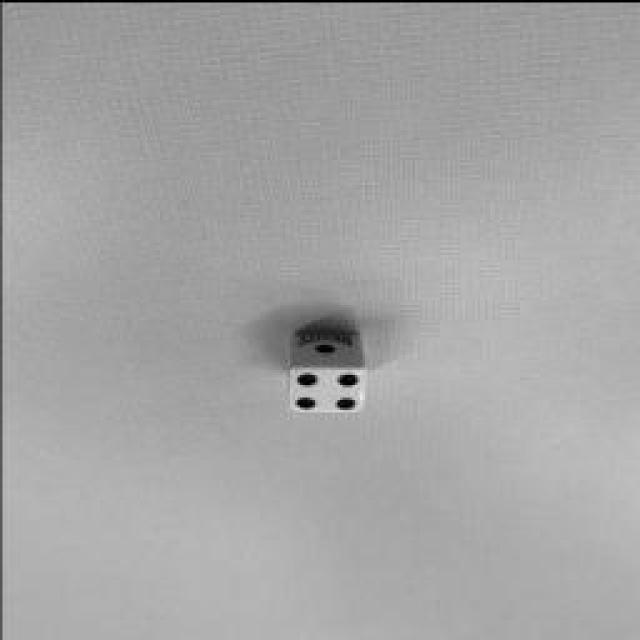dice_4: (288, 365, 362, 410)
